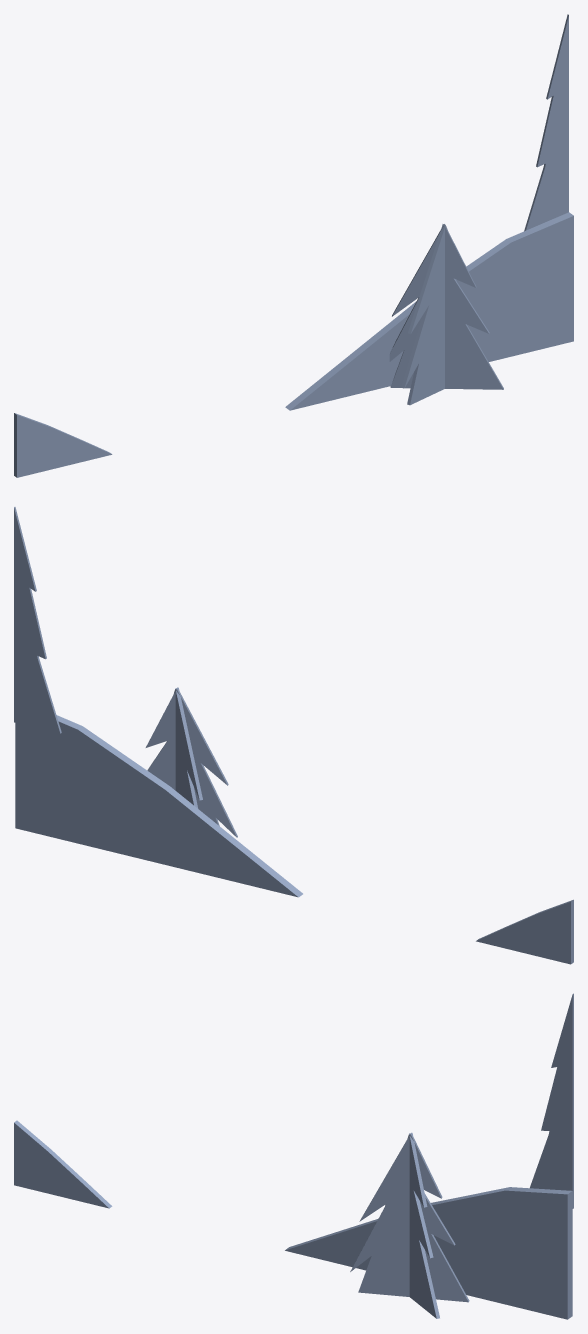
Rendered from frame_0060.glb.
3 views of the same model, one above another, from view 1: azimuth 30°, elevation 25°; view 2: azimuth 150°, elevation 25°; view 3: azimuth 330°, elevation 25° (orthographic).
Parts seen in each view (by area): view 1: export_trees_001.002; view 2: export_trees_001.002; view 3: export_trees_001.002.
Boxes of the visible parts, box(x1,y1,x2,y2) form: export_trees_001.002: box(14, 14, 573, 477); export_trees_001.002: box(14, 507, 573, 964); export_trees_001.002: box(14, 993, 573, 1319).
Size of the model in its own units: 0.4327 by 0.2412 by 0.0496.
